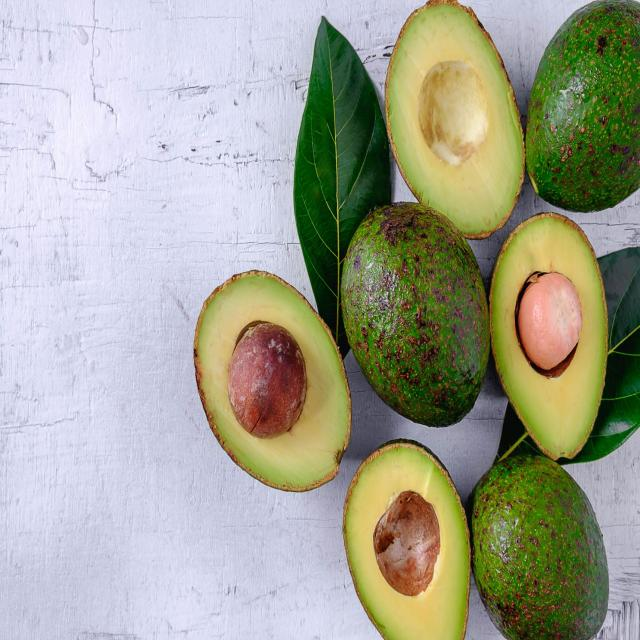avocado: (192, 272, 353, 496), (385, 0, 524, 242), (343, 203, 488, 429), (491, 212, 608, 458), (340, 440, 471, 640), (475, 455, 609, 640), (528, 1, 638, 212)
